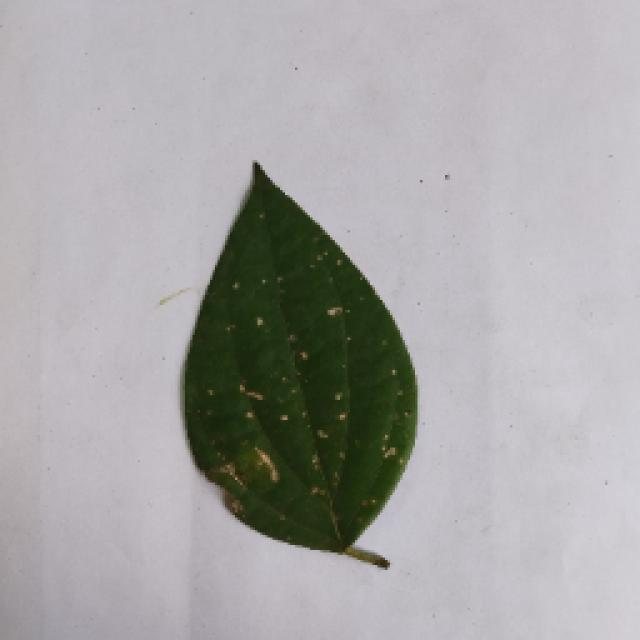pollu-disease: (160, 152, 422, 578)
